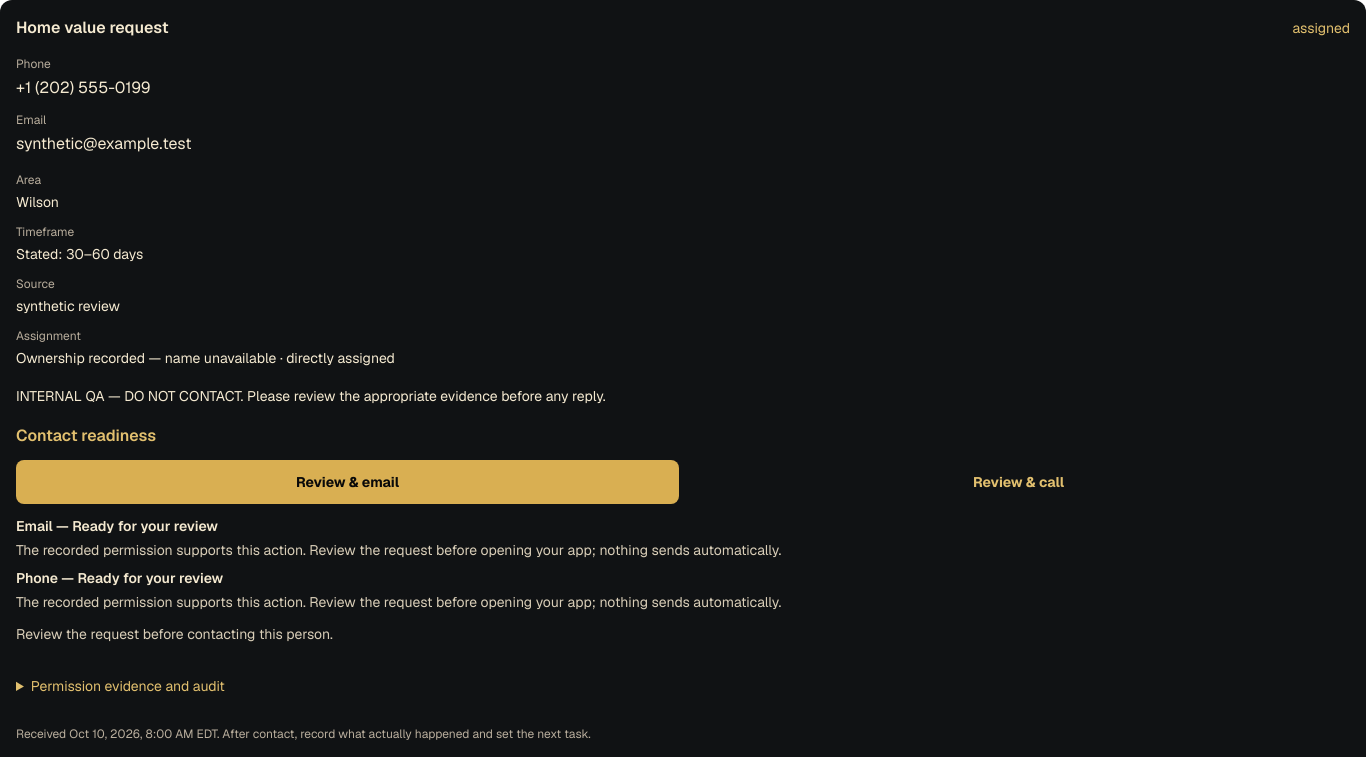
Scenario: fresh contact access denial (component-only synthetic fetches, not auth proof) › a provider/permission read failure clears the choice, not the authorized saved details
The width and height of the screenshot is (1366, 757).
Click the button "Review & call" at (1018, 482), box [687,460,1350,504]
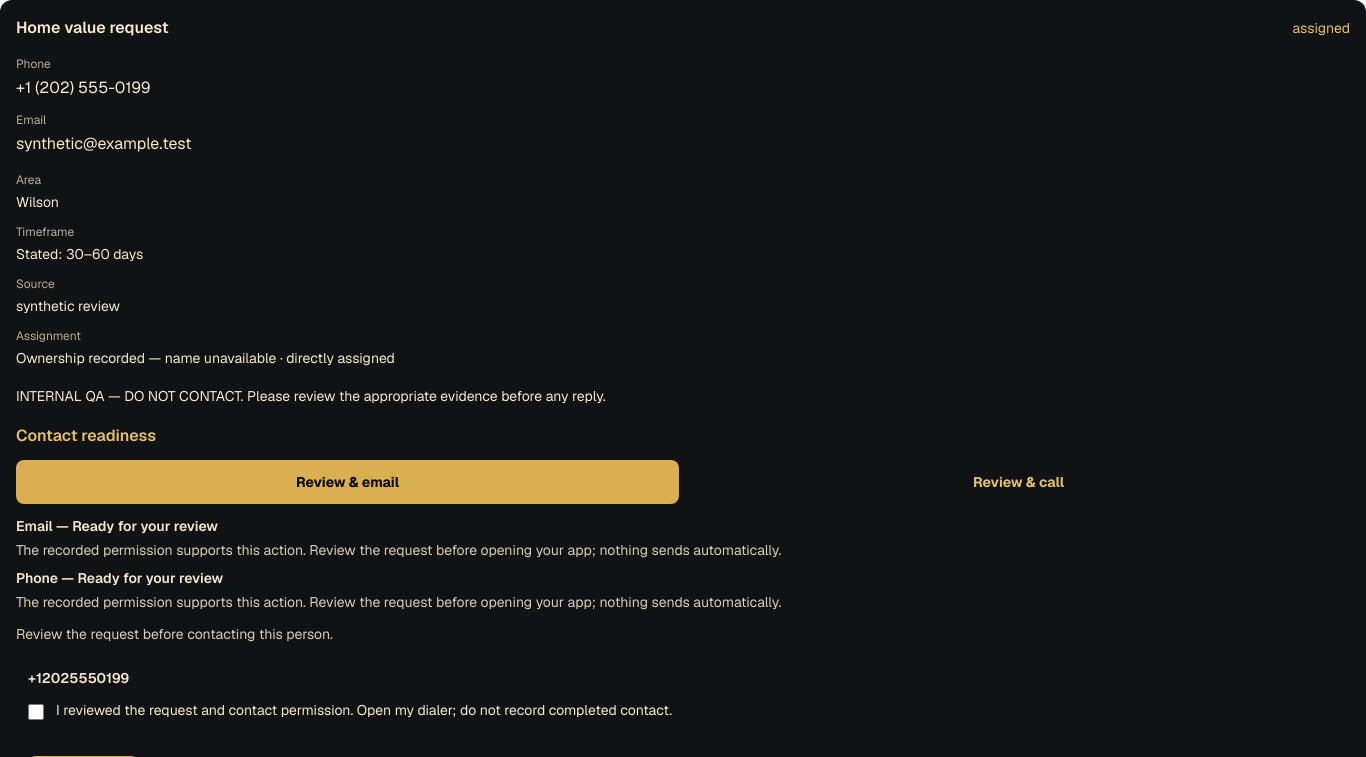
Click the checkbox at (36, 712), box [28,704,44,720]
(page scrolled)
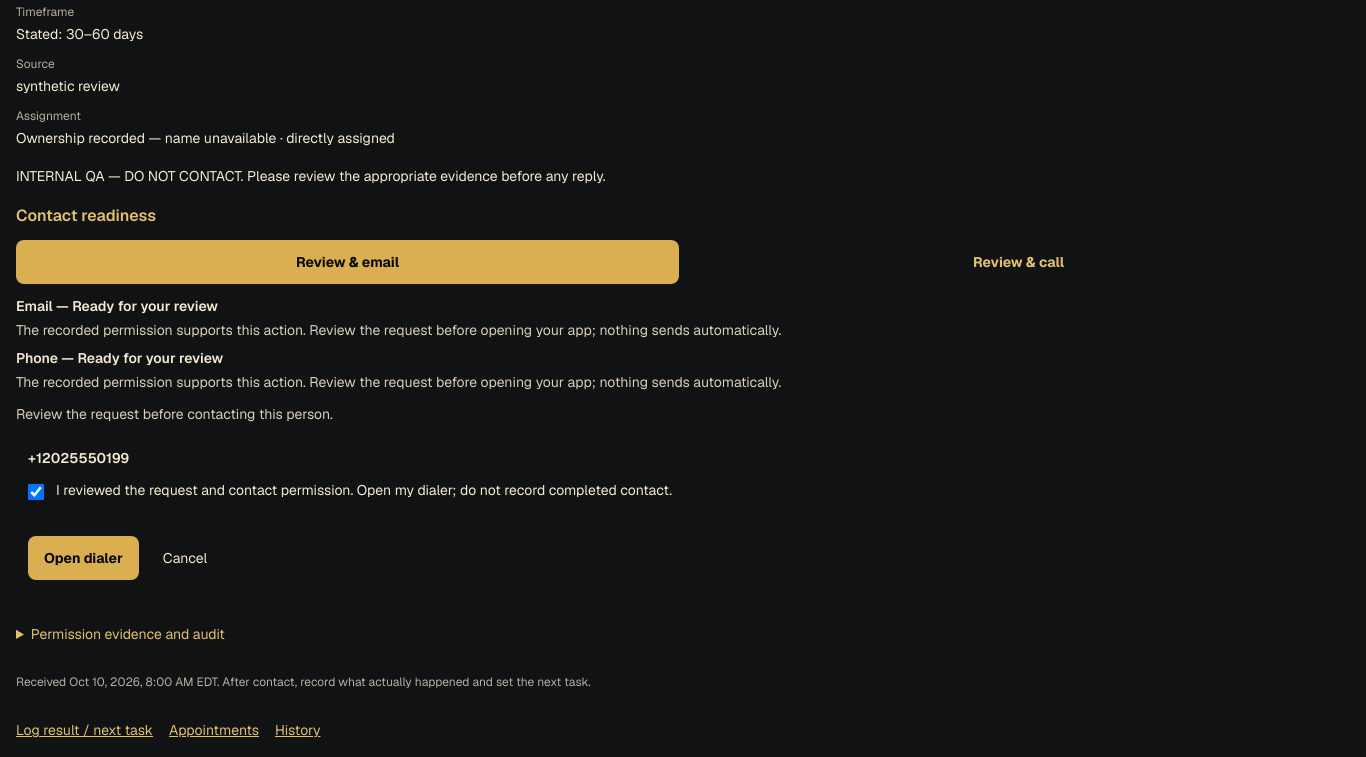
Click the button "Open dialer" at (83, 558), box [28,536,139,580]
(page scrolled)
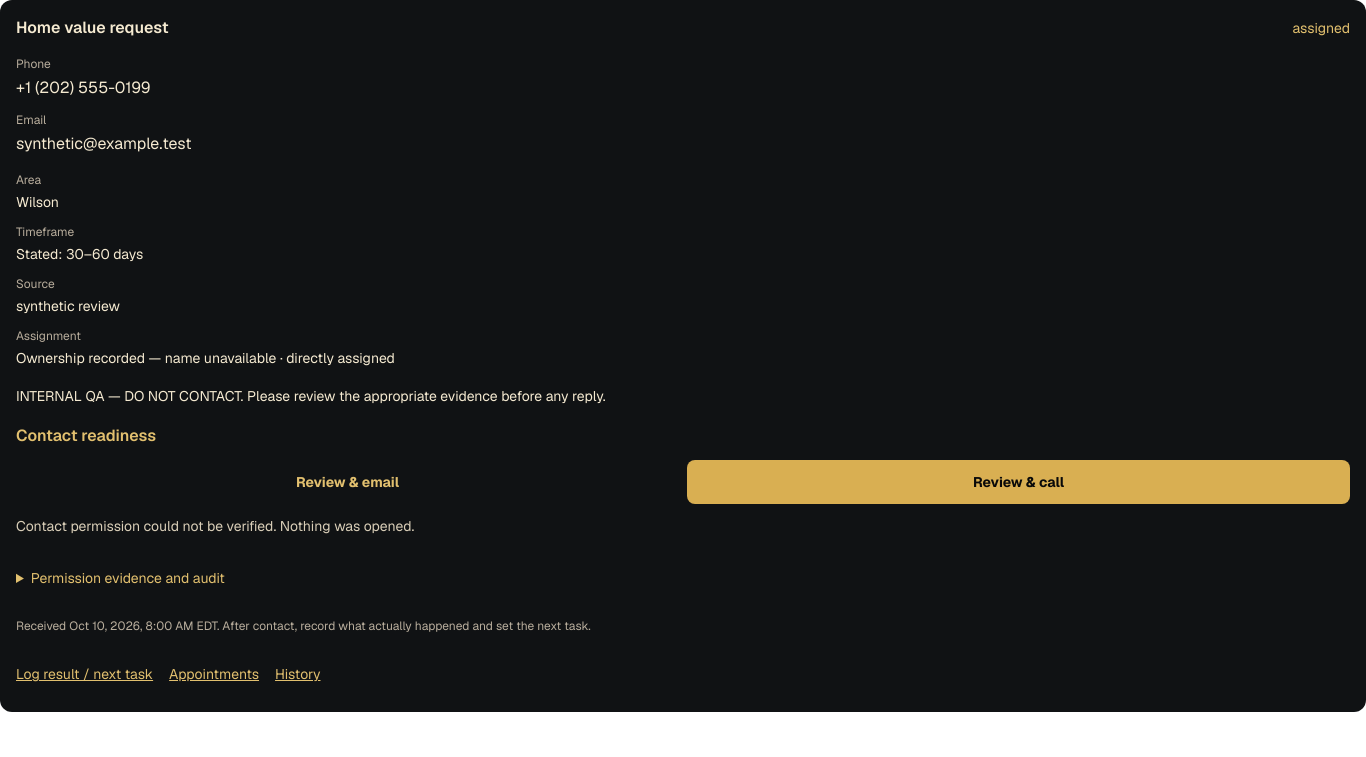
Expected: the text "synthetic@example.test" is shown, [16,133,192,154]
Result: the text "Contact permission could not be verified. Nothing was opened." is shown at [16,517,414,535]
Result: the button "Open dialer" is gone
